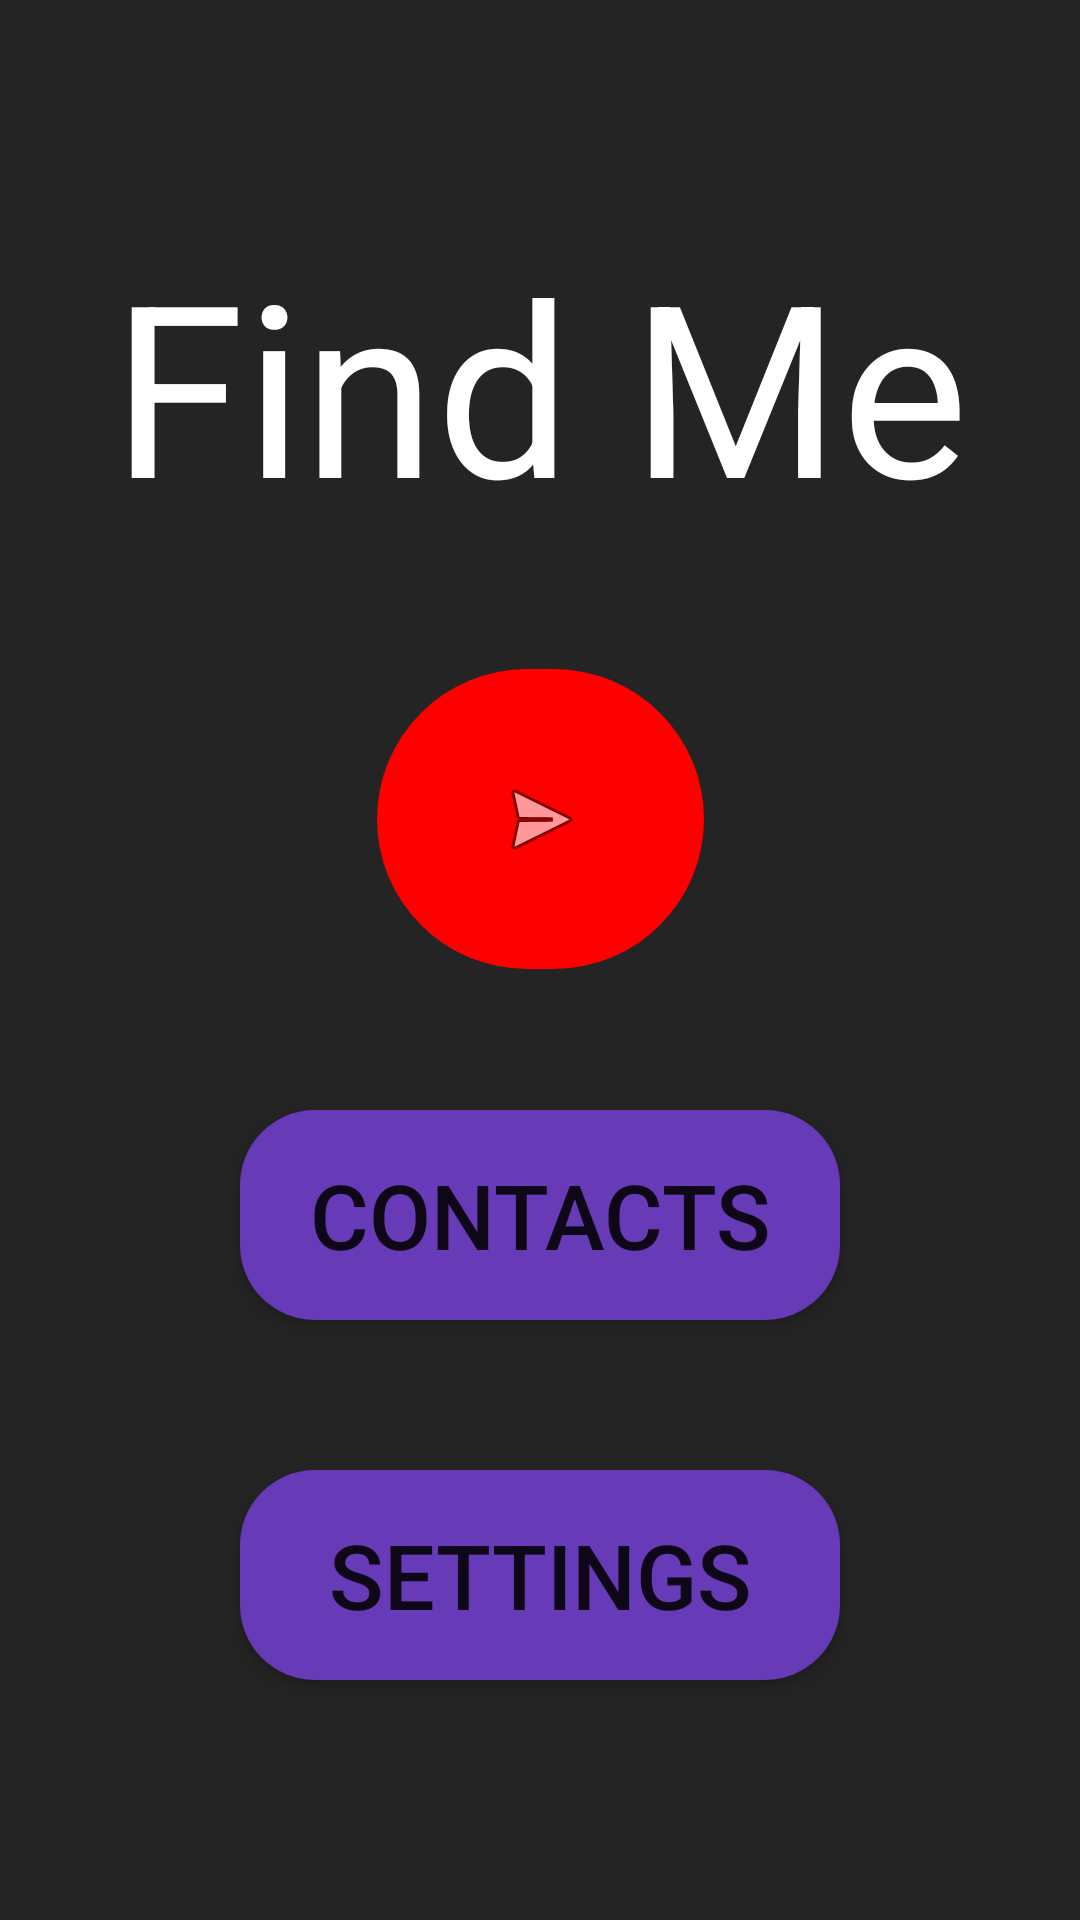

Where icons sit on this 1080*1920 app screen, as (x1, y1, x2, y2):
send: (377, 669, 704, 969)
